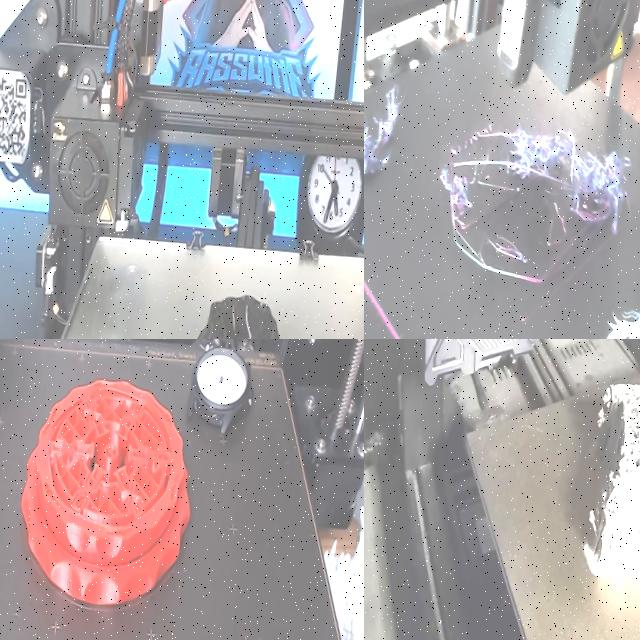spaghetti: (502, 112, 640, 242), (364, 62, 415, 246), (425, 144, 479, 238), (484, 222, 534, 280)
